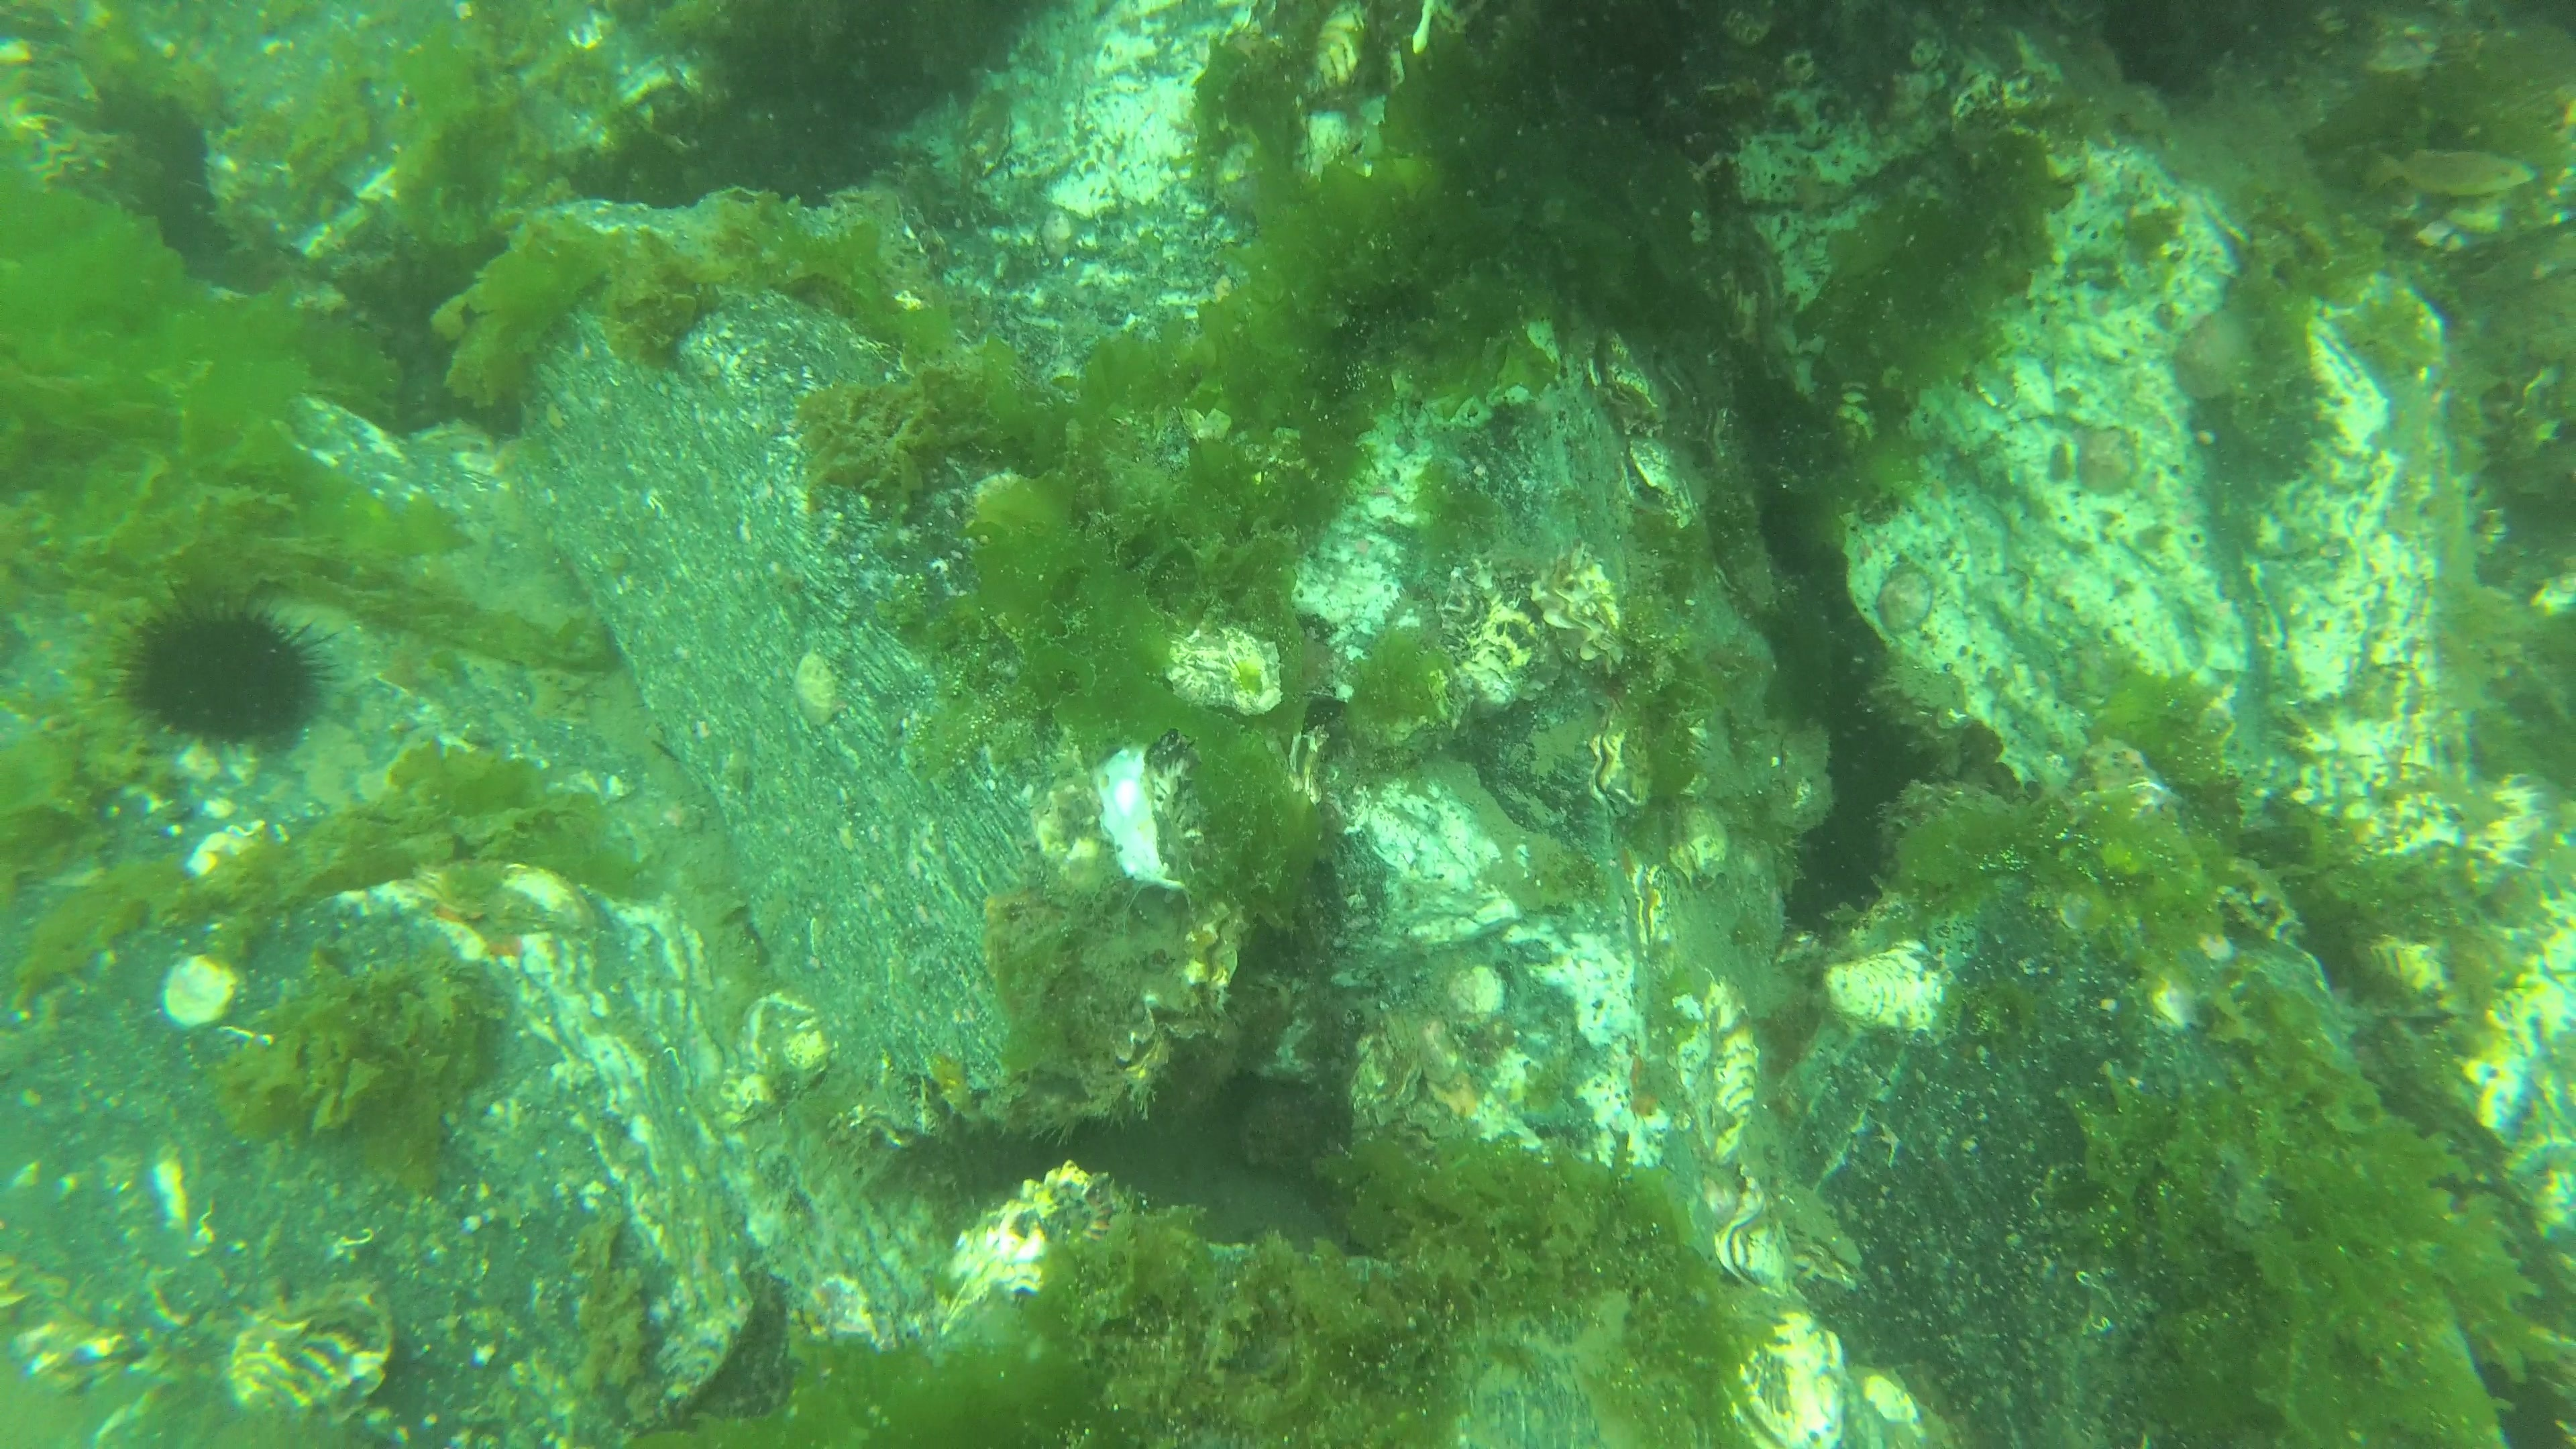echinus: (108, 582, 341, 761)
